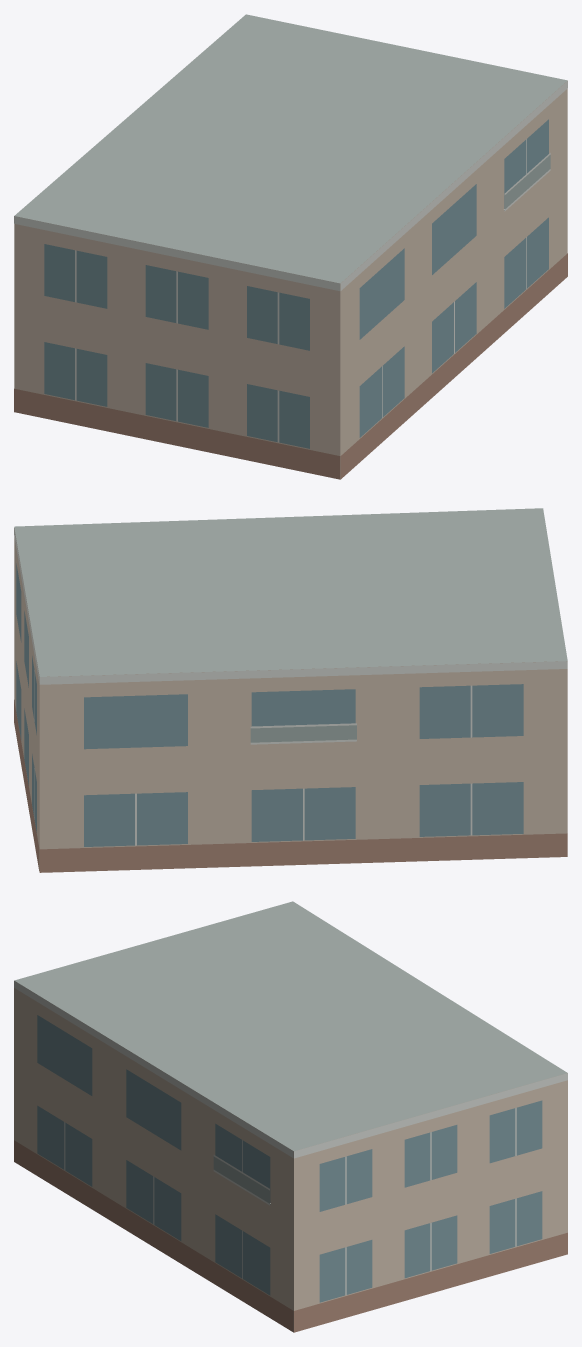
The model's file is survey-upis-32887569.glb.
3 views of the same model, one above another, from view 1: azimuth 30°, elevation 25°; view 2: azimuth 150°, elevation 25°; view 3: azimuth 270°, elevation 25° (orthographic). The views are drawn at different scales.
Parts seen in each view (by area): view 1: survey-upis-32887569.tmp; view 2: survey-upis-32887569.tmp; view 3: survey-upis-32887569.tmp.
Boxes of the visible parts, x1,y1,x2,y2 form: survey-upis-32887569.tmp: [14, 14, 567, 479]; survey-upis-32887569.tmp: [14, 508, 567, 872]; survey-upis-32887569.tmp: [14, 901, 567, 1332].
Bounding box in the file's own units: 18.05 × 6.1 × 16.89.
